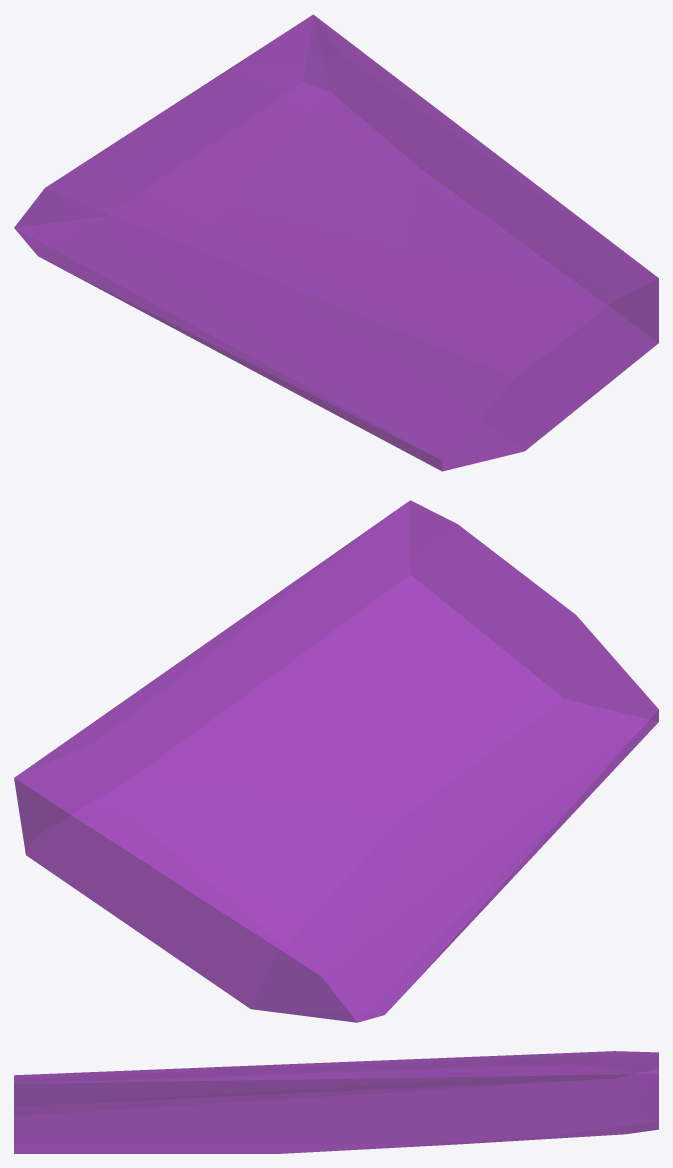
3 renders of one model, top to bottom at view 1: azimuth 30°, elevation 25°; view 2: azimuth 150°, elevation 25°; view 3: azimuth 270°, elevation 25°, orthographic. The views are drawn at different scales.
Visible parts, largest first — view 1: Shape_IndexedFaceSet.044_Shape_IndexedFaceSet.13116; view 2: Shape_IndexedFaceSet.044_Shape_IndexedFaceSet.13116; view 3: Shape_IndexedFaceSet.044_Shape_IndexedFaceSet.13116.
Part boxes in pixels (<box>): Shape_IndexedFaceSet.044_Shape_IndexedFaceSet.13116: <box>14,14,658,471</box>; Shape_IndexedFaceSet.044_Shape_IndexedFaceSet.13116: <box>14,500,658,1022</box>; Shape_IndexedFaceSet.044_Shape_IndexedFaceSet.13116: <box>14,1051,658,1153</box>.
Bounding box in the file's own units: 0.0658 × 0.0318 × 0.1316.
